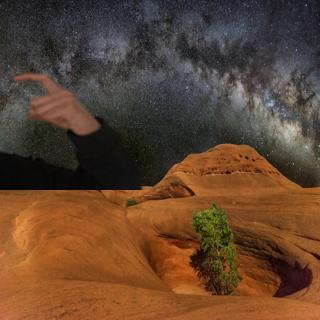WHY: (9, 67, 98, 133)
